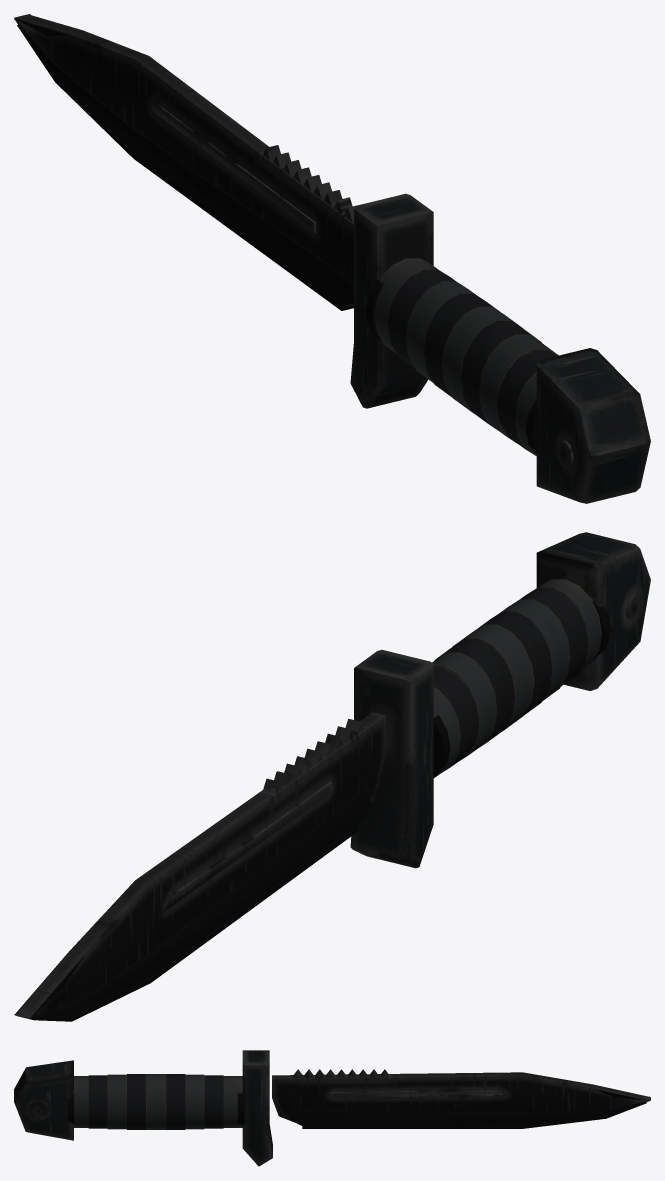
The model's file is knife.glb.
The picture shows the model from 3 angles, top to bottom: view 1: azimuth 30°, elevation 25°; view 2: azimuth 150°, elevation 25°; view 3: azimuth 270°, elevation 25°; orthographic projection. The views are drawn at different scales.
Visible parts, largest first — view 1: body_receiver, body_metal, body_furniture; view 2: body_receiver, body_metal, body_furniture; view 3: body_receiver, body_metal, body_furniture.
Part boxes in pixels (bbox=[...]): body_receiver: bbox=[15, 14, 650, 503]; body_metal: bbox=[14, 14, 557, 454]; body_furniture: bbox=[374, 258, 558, 455]; body_receiver: bbox=[15, 532, 650, 1021]; body_metal: bbox=[14, 587, 610, 1018]; body_furniture: bbox=[432, 579, 601, 778]; body_receiver: bbox=[14, 1050, 650, 1166]; body_metal: bbox=[67, 1074, 650, 1129]; body_furniture: bbox=[73, 1074, 242, 1129].
Bounding box in the file's own units: 0.029 × 0.0687 × 0.3821.
3 materials, 3 textured.
